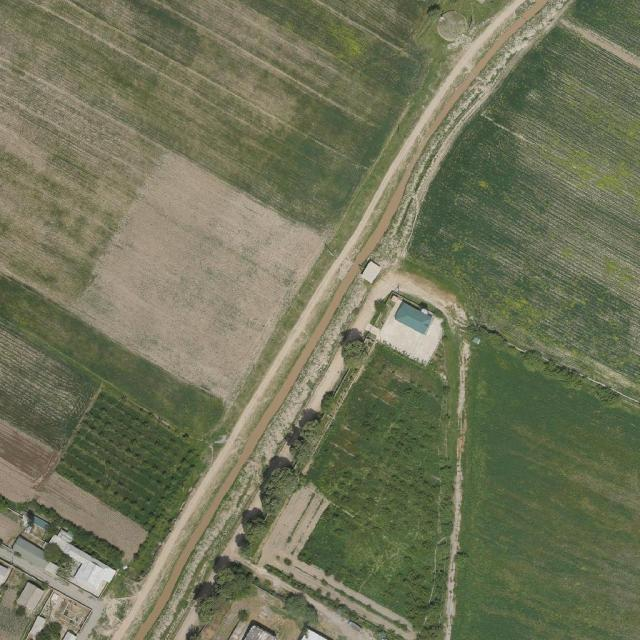agricultural_land: (34, 469, 151, 563), (0, 420, 60, 510), (0, 569, 35, 639), (40, 588, 92, 635)
building: (38, 528, 118, 601), (8, 534, 52, 573), (393, 301, 434, 336), (15, 581, 46, 613), (360, 260, 382, 284), (298, 625, 333, 639)
dryland: (256, 476, 333, 582), (349, 265, 468, 330)
greenland: (387, 3, 640, 396), (452, 339, 640, 639), (295, 322, 466, 640), (218, 327, 389, 565), (0, 272, 229, 445), (27, 388, 214, 583), (0, 326, 101, 453), (208, 556, 258, 608), (195, 595, 222, 627)
unmetalled_road: (359, 0, 571, 270), (306, 380, 315, 389)
